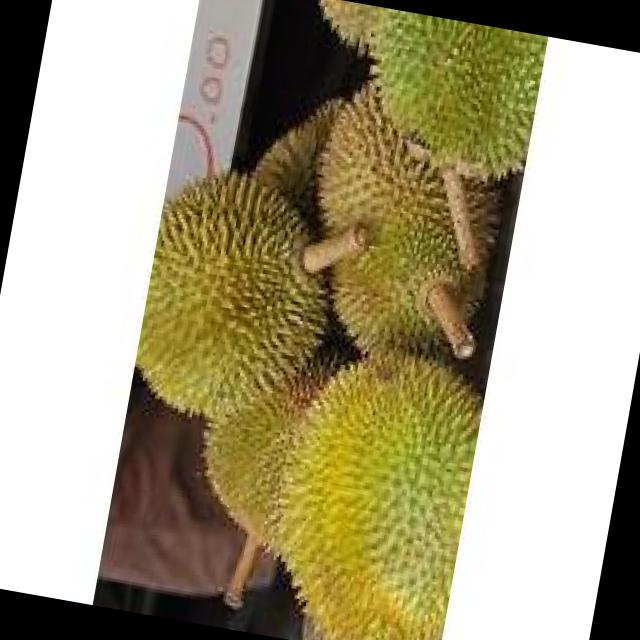fruit: (121, 99, 448, 473), (152, 328, 489, 640), (263, 0, 543, 216)
